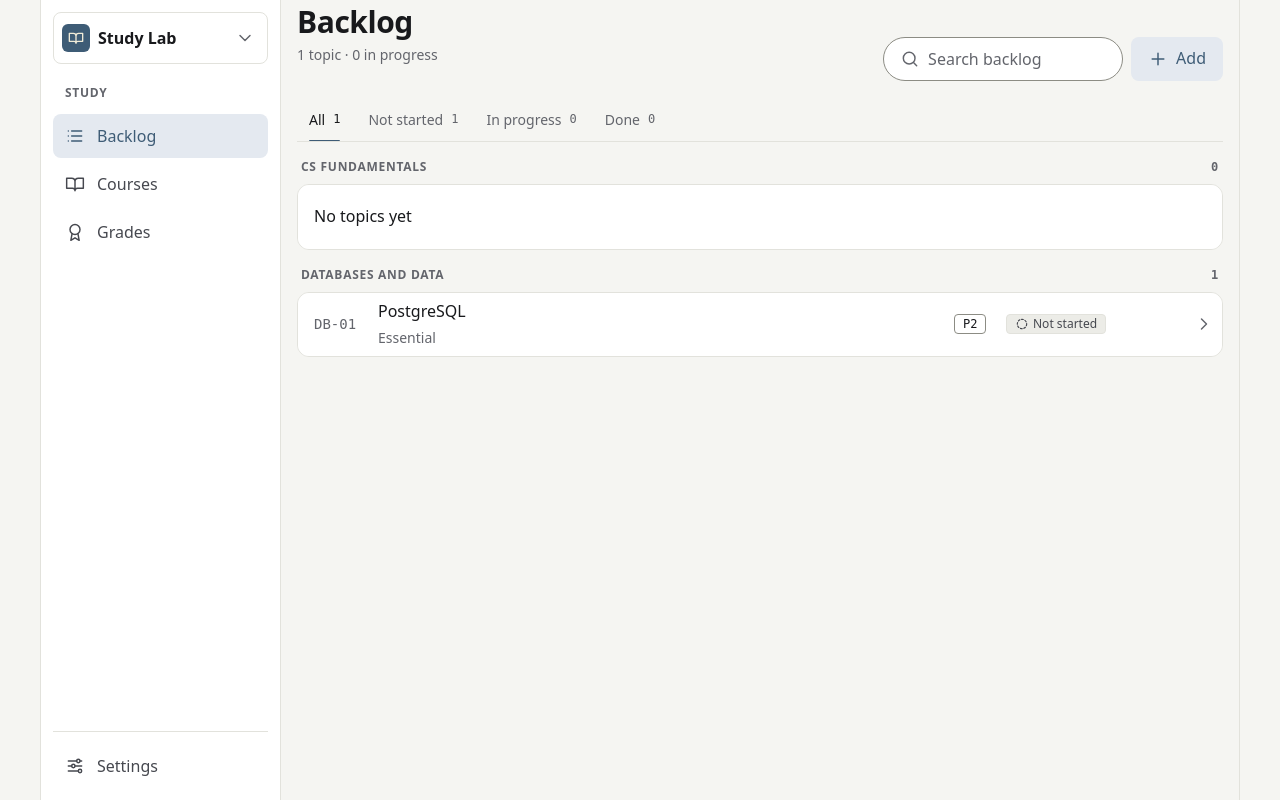
it: Add a topic › adds with an Idempotency-Key, toasts it and reads the backlog again
The width and height of the screenshot is (1280, 800).
Click the button "Add": x=1177, y=59 [1131,37,1223,81]
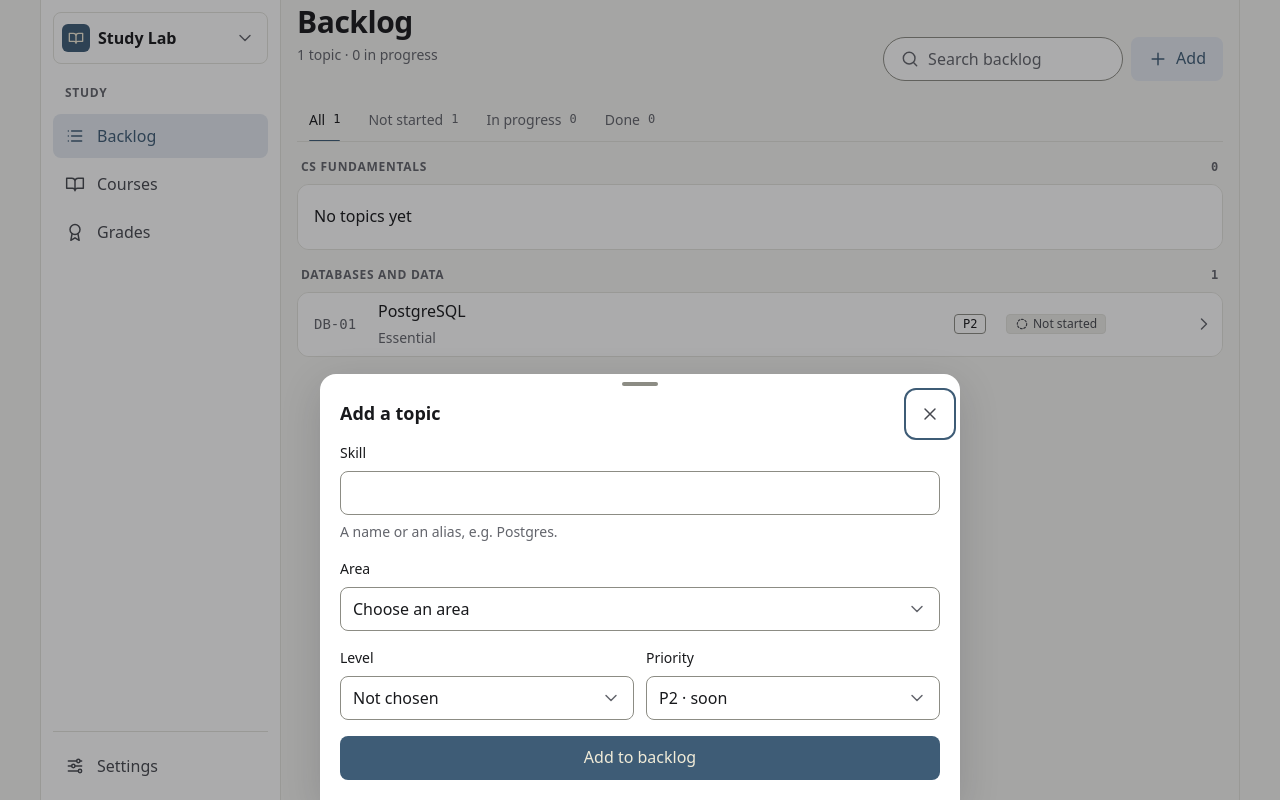
In the field labelled "Skill": x=644, y=493 [353,472,935,514], type "Graphs"
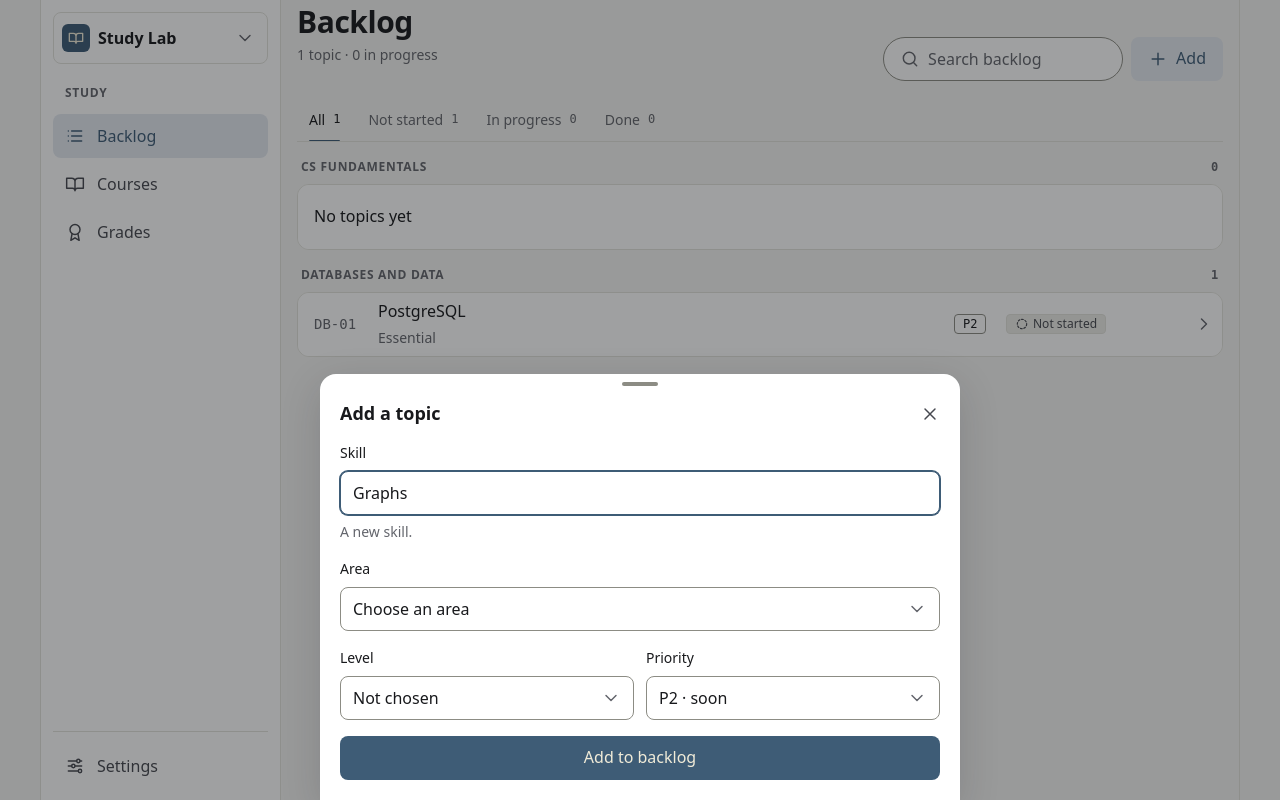
Select "CS Fundamentals" in the dropdown labelled "Area": x=626, y=609 [353,588,899,630]
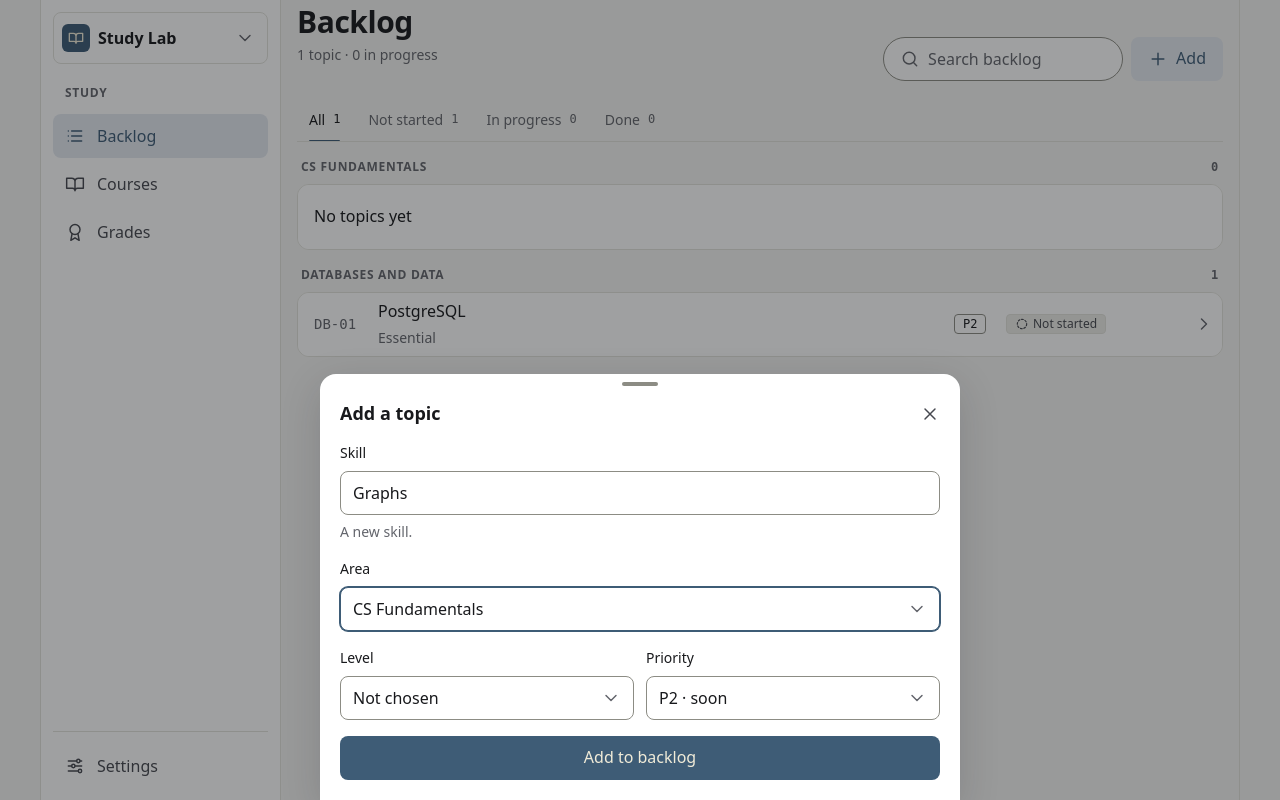
Select "Essential" in the dropdown labelled "Level": x=473, y=698 [353,677,593,719]
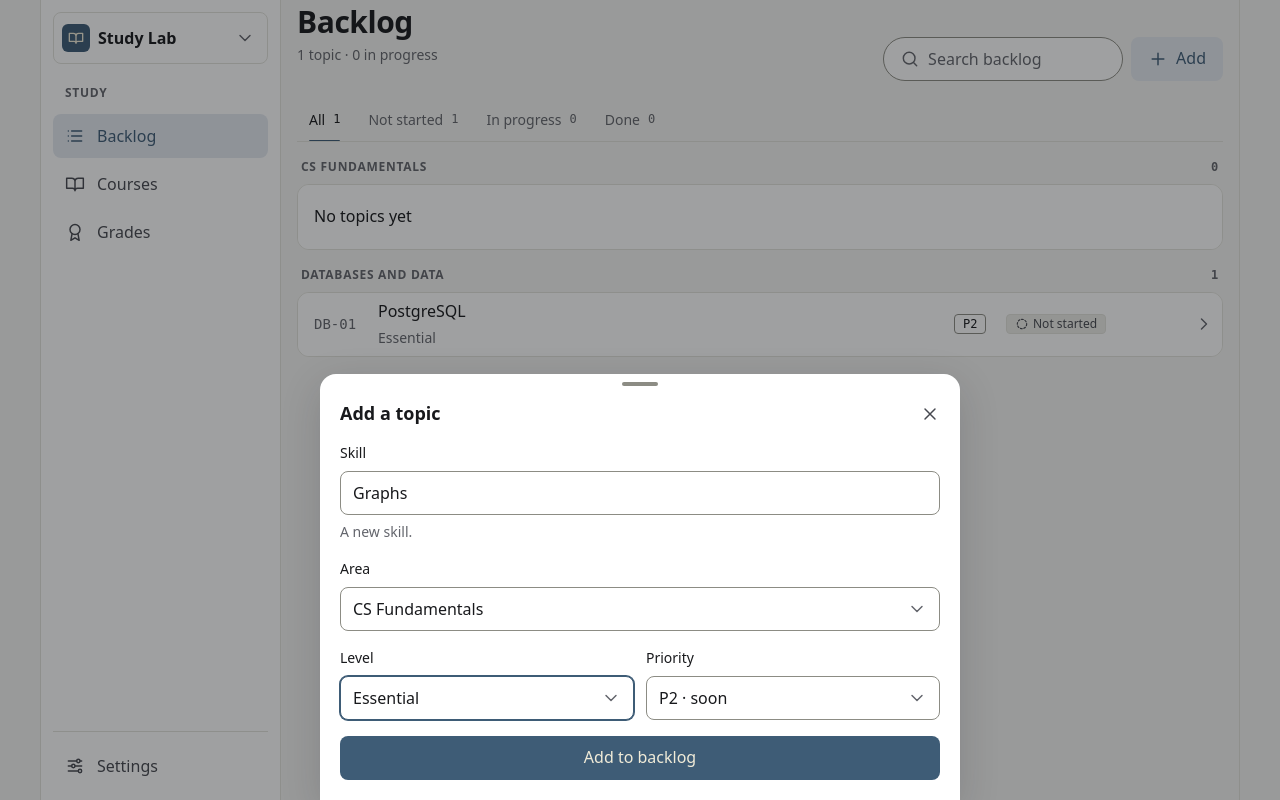
Select "P1 · next up" in the dropdown labelled "Priority": x=779, y=698 [659,677,899,719]
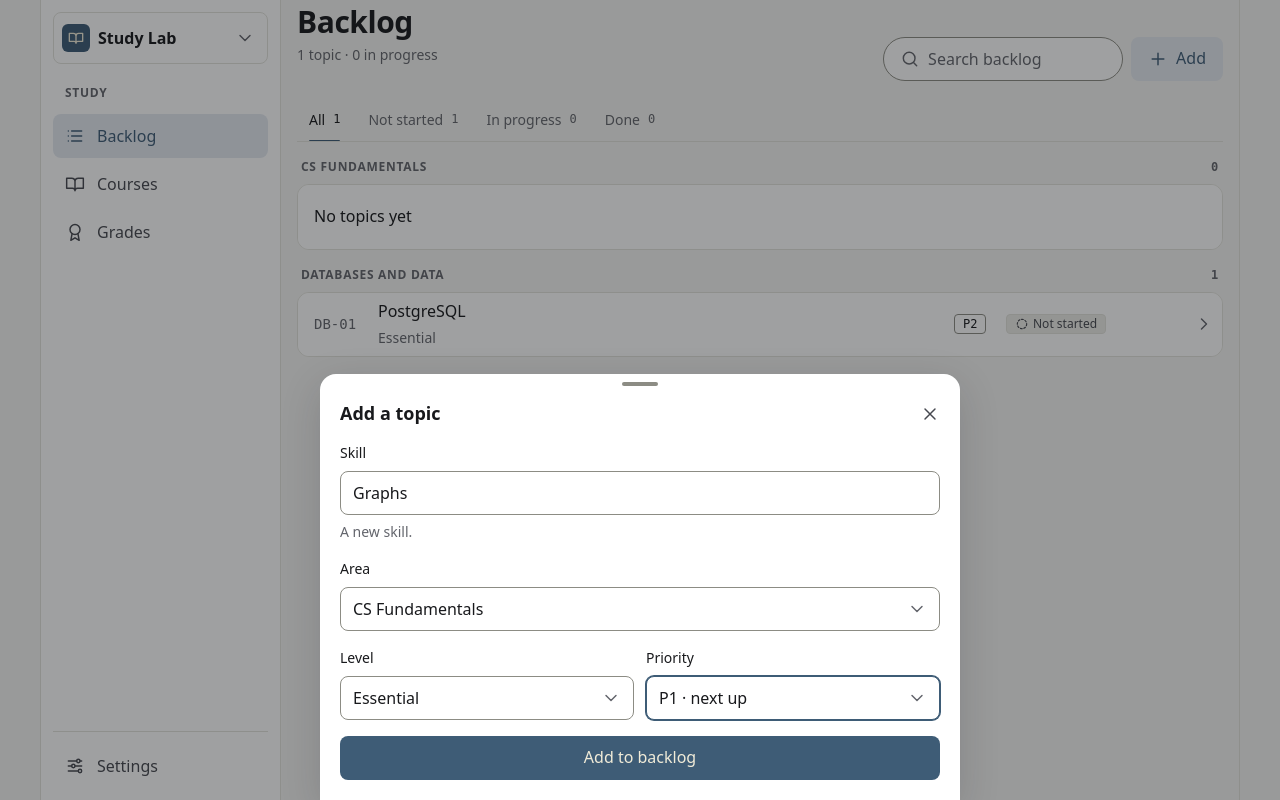
Click the button "Add to backlog": x=640, y=758 [340,736,940,780]
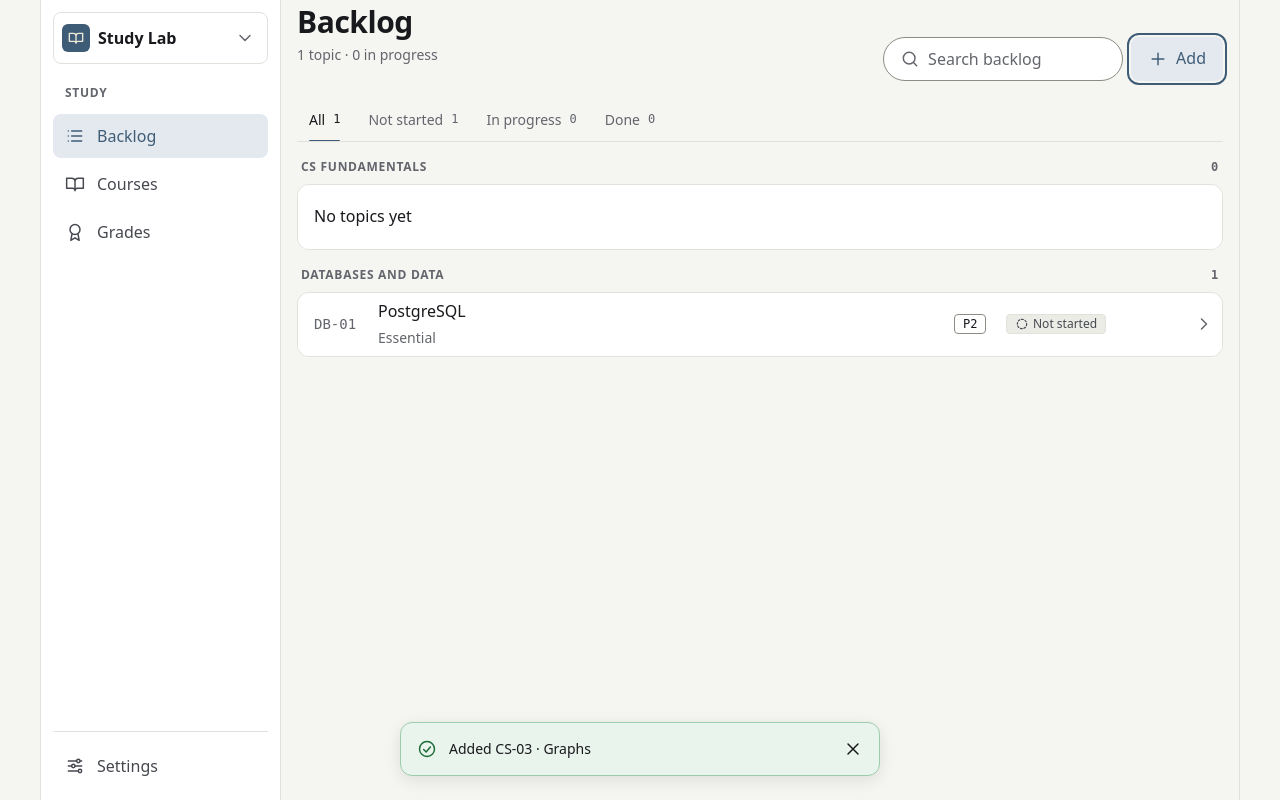
Expected: the text "Added CS-03 · Graphs" is shown, [449,738,591,758]
